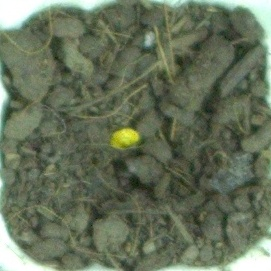chilli seed: (108, 126, 145, 151)
